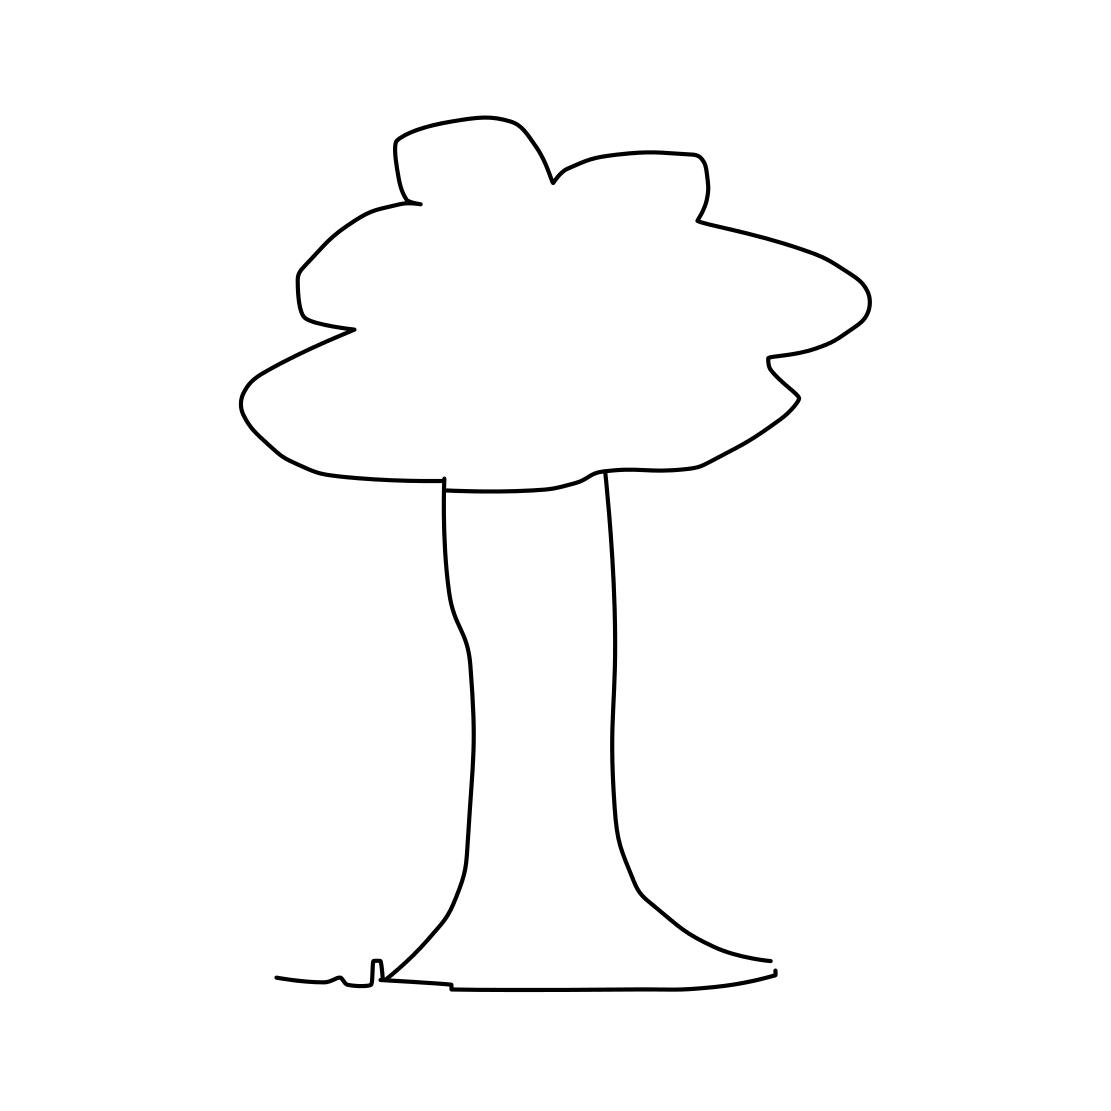Tree: (209, 80, 875, 1007)
